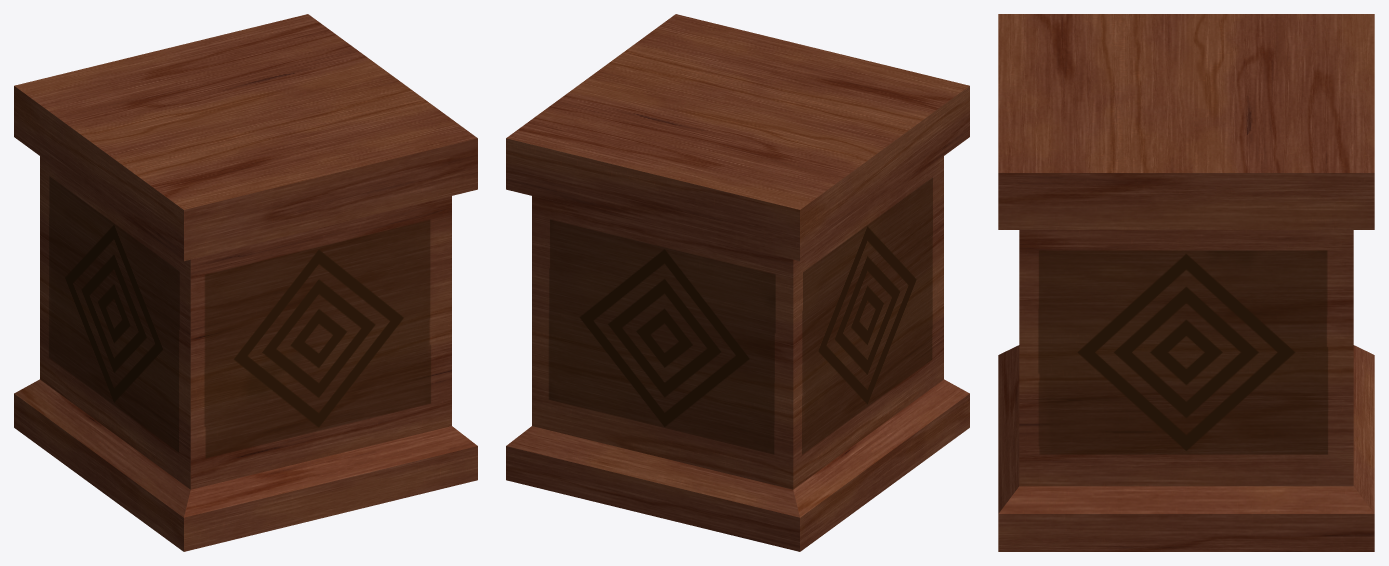
File: small_museum_display_case.glb
3 views of the same model, side by side, from view 1: azimuth 30°, elevation 25°; view 2: azimuth 150°, elevation 25°; view 3: azimuth 270°, elevation 25° (orthographic). The views are drawn at different scales.
Visible parts, largest first — view 1: Cube_309_; view 2: Cube_309_; view 3: Cube_309_.
Part boxes in pixels (bbox=[...]): Cube_309_: bbox=[14, 14, 477, 551]; Cube_309_: bbox=[506, 14, 969, 551]; Cube_309_: bbox=[998, 14, 1374, 551].
Bounding box in the file's own units: 1.13 × 1.25 × 1.13.
1 material, 1 textured.
